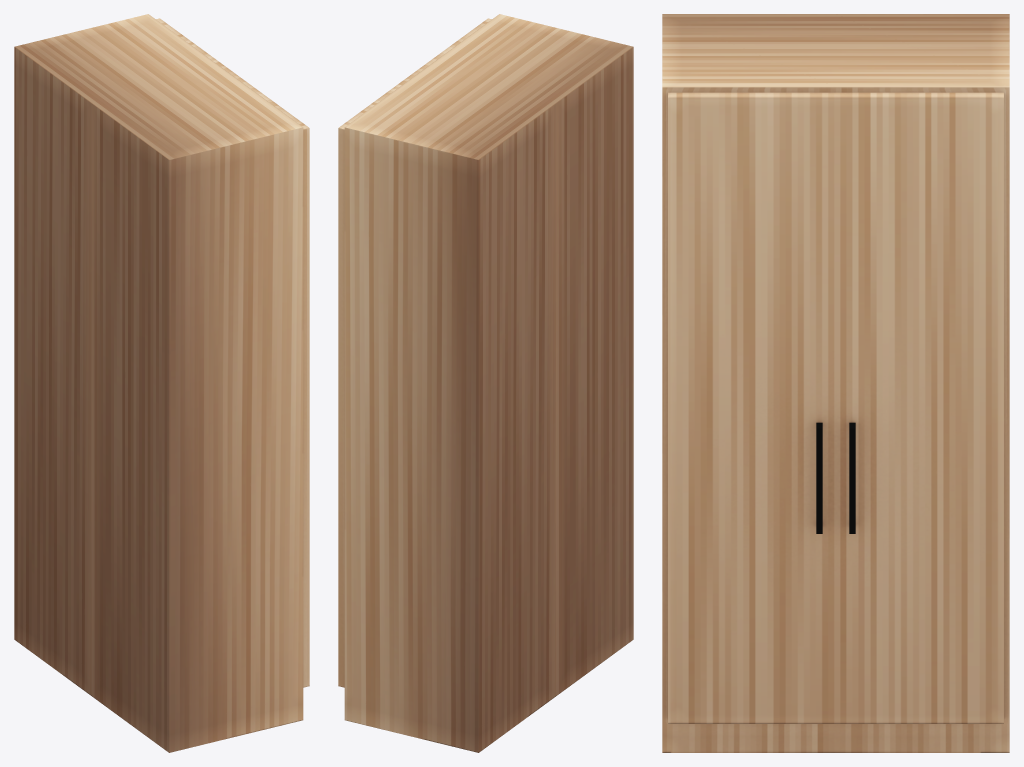
Rendered from closet.glb.
The picture shows the model from 3 angles, left to right: view 1: azimuth 30°, elevation 25°; view 2: azimuth 150°, elevation 25°; view 3: azimuth 270°, elevation 25°; orthographic projection. The views are drawn at different scales.
Parts seen in each view (by area): view 1: Object_46; view 2: Object_46; view 3: Object_46.
Part boxes in pixels (<box>): Object_46: <box>14,14,309,752</box>; Object_46: <box>338,14,633,752</box>; Object_46: <box>662,14,1009,752</box>.
Bounding box in the file's own units: 1.16 × 4.22 × 2.
Materials: 1 (1 with a texture image).
